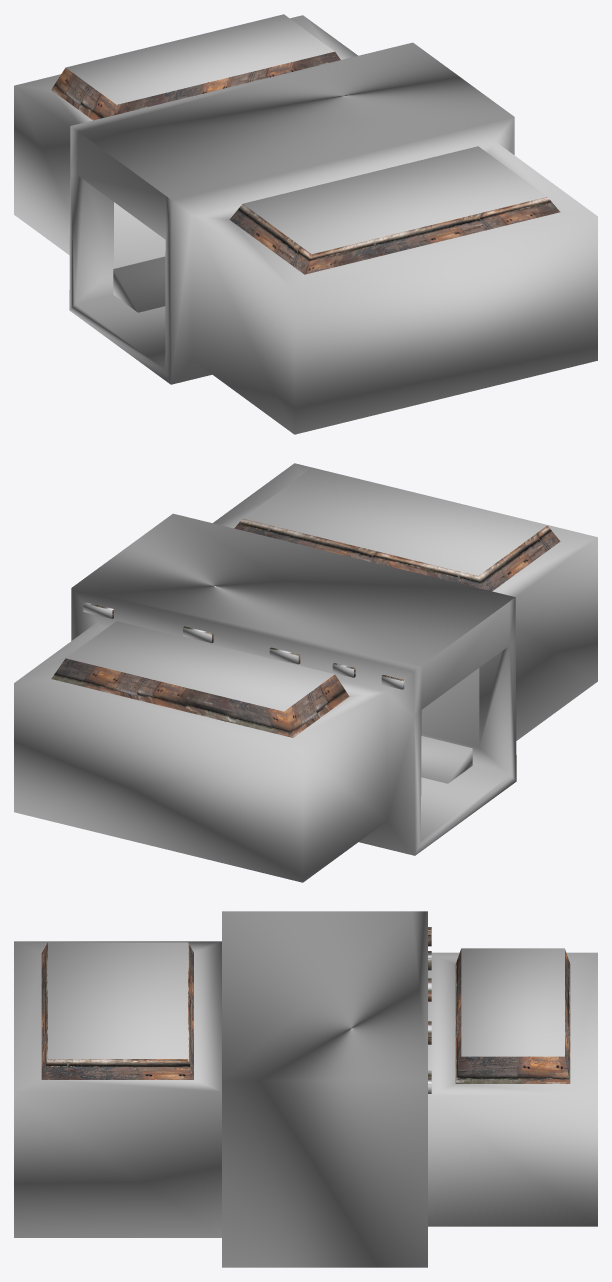
File: DungeonRoomD.fbx
3 renders of one model, top to bottom at view 1: azimuth 30°, elevation 25°; view 2: azimuth 150°, elevation 25°; view 3: azimuth 270°, elevation 25°, orthographic.
Parts seen in each view (by area): view 1: DungeonRoomD, DungeonDRamps; view 2: DungeonRoomD, DungeonDRamps; view 3: DungeonRoomD.
Part boxes in pixels (x1,y1,x2,y2): DungeonRoomD: [14, 14, 597, 434]; DungeonDRamps: [113, 256, 165, 312]; DungeonRoomD: [14, 463, 597, 882]; DungeonDRamps: [421, 736, 472, 783]; DungeonRoomD: [14, 911, 597, 1267].
Size of the model in its own units: 872 by 446 by 1264.
